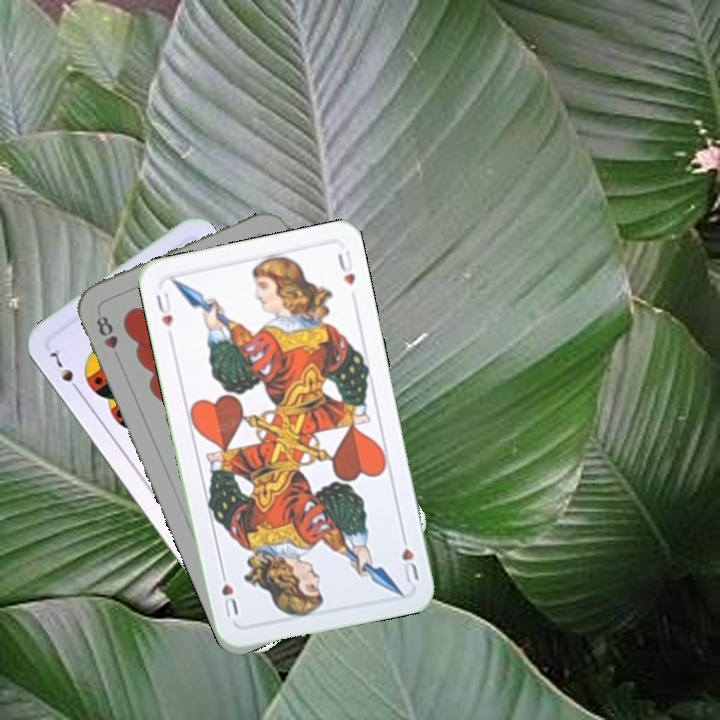H8: (92, 312, 124, 364)
HU: (397, 528, 421, 587), (151, 288, 176, 330)
S7: (45, 345, 84, 397)
